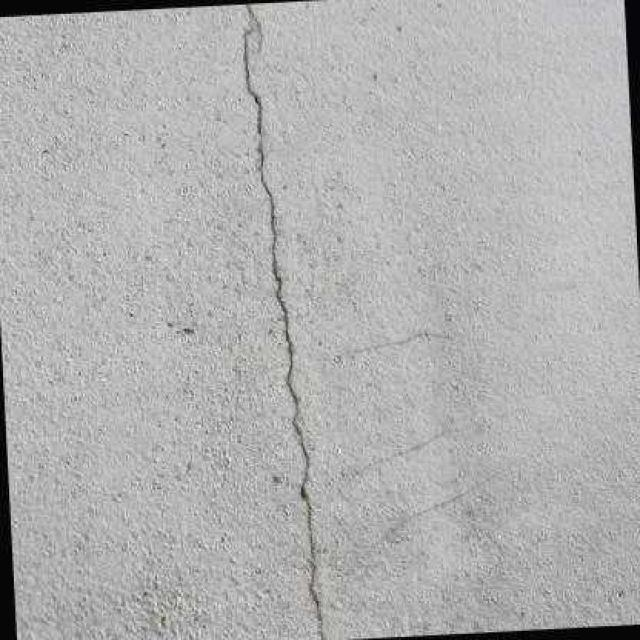D00: (242, 3, 325, 640)
